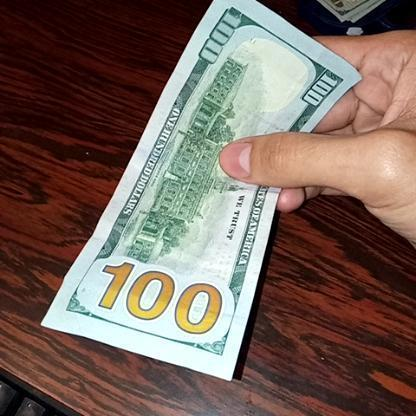dollar_back: (37, 0, 362, 383)
